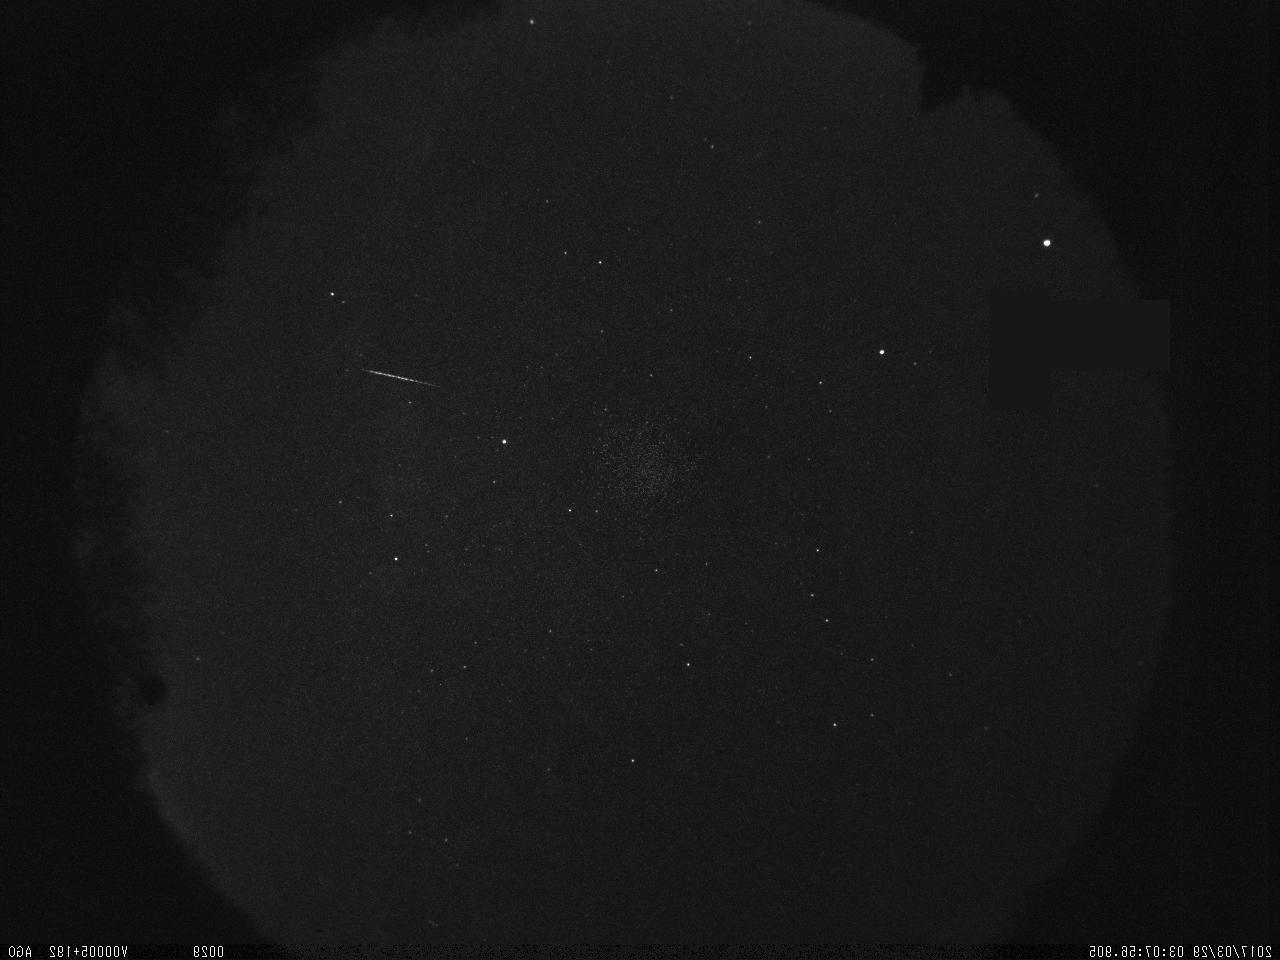meteor: (356, 362, 462, 396)
